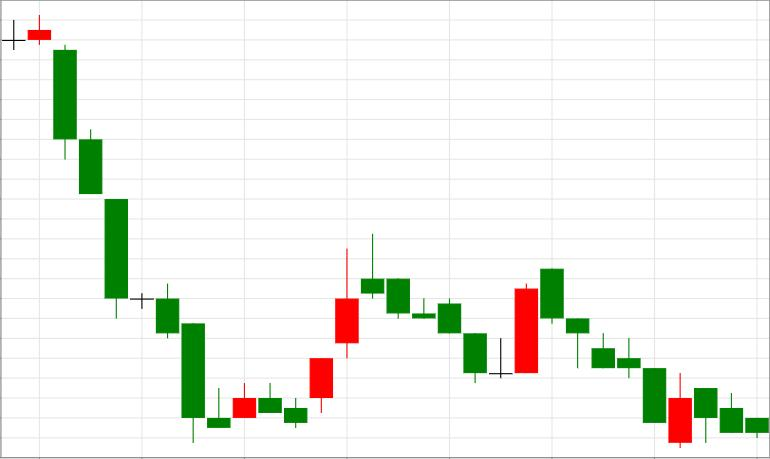morning_star_rise: (362, 233, 537, 382)
